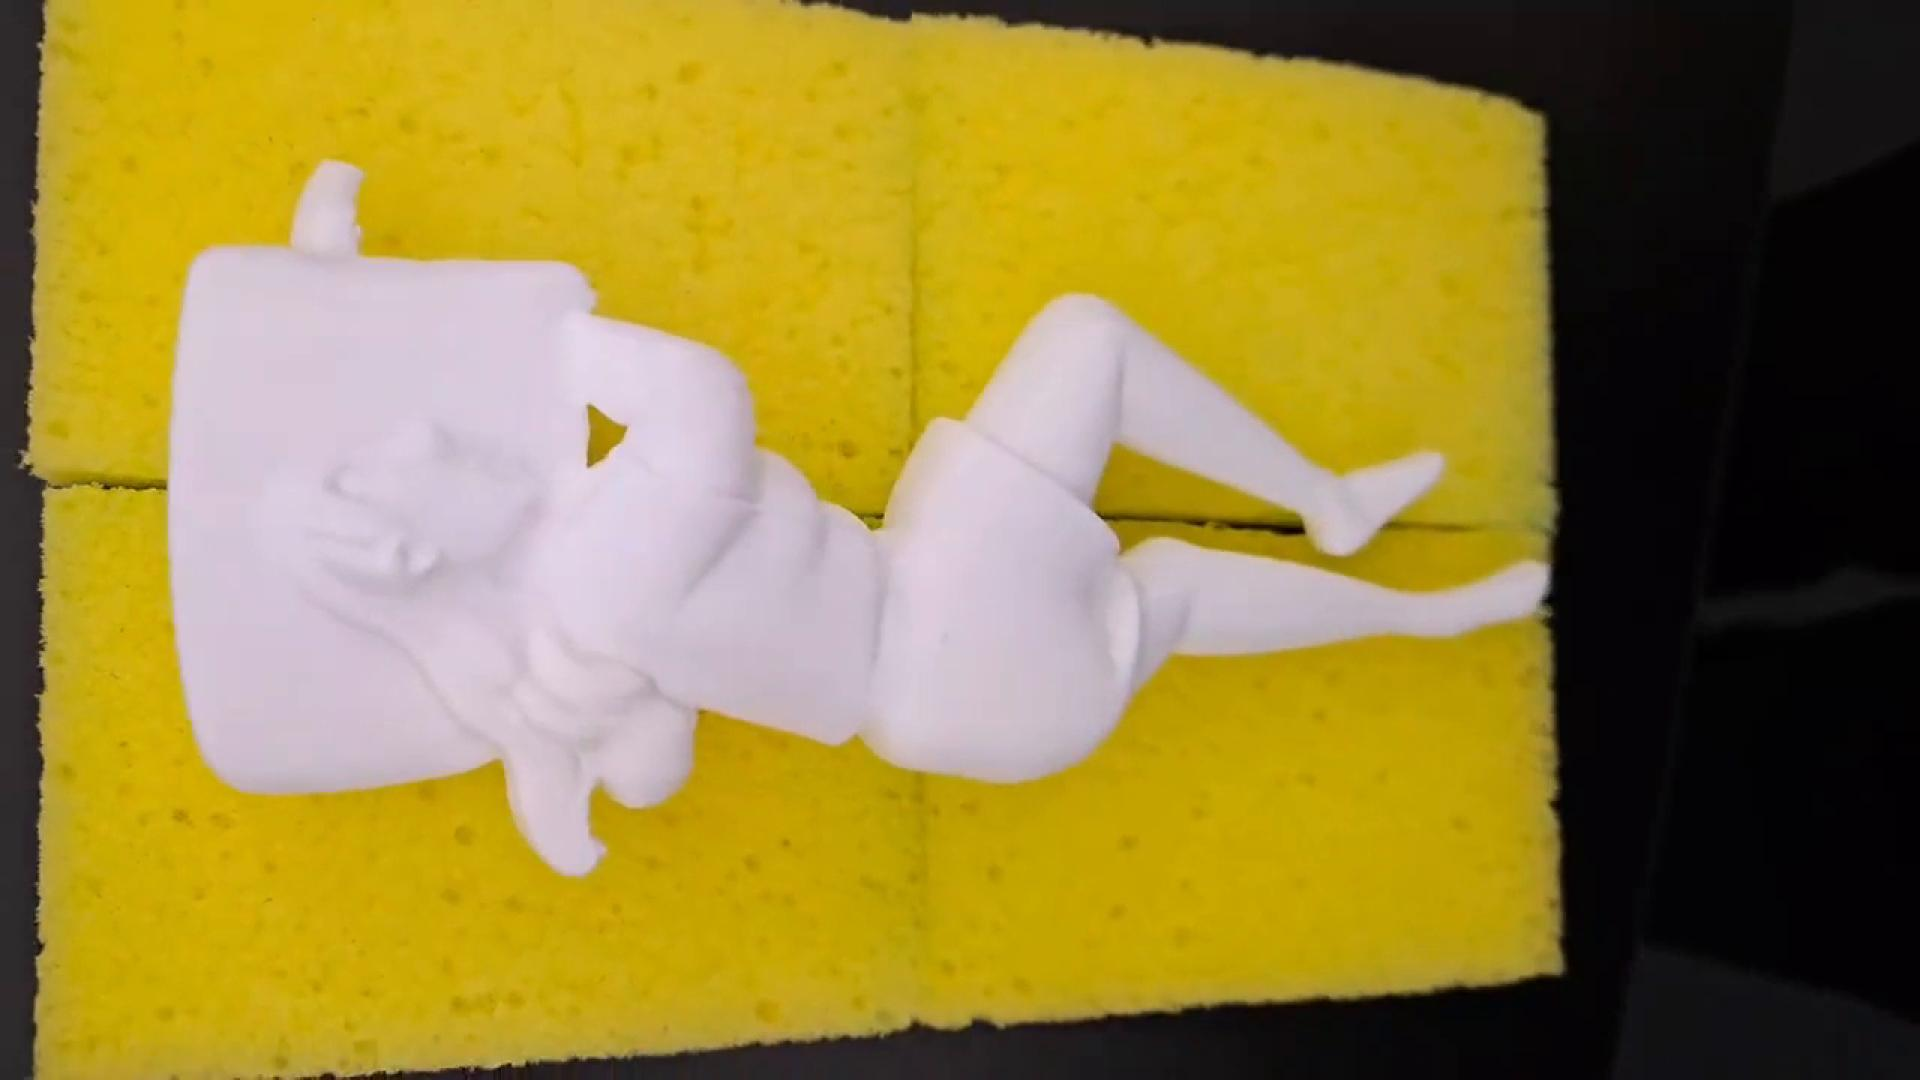Good-style: (166, 150, 1553, 881)
